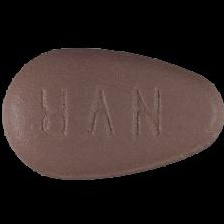21695-919: (0, 0, 224, 224)
